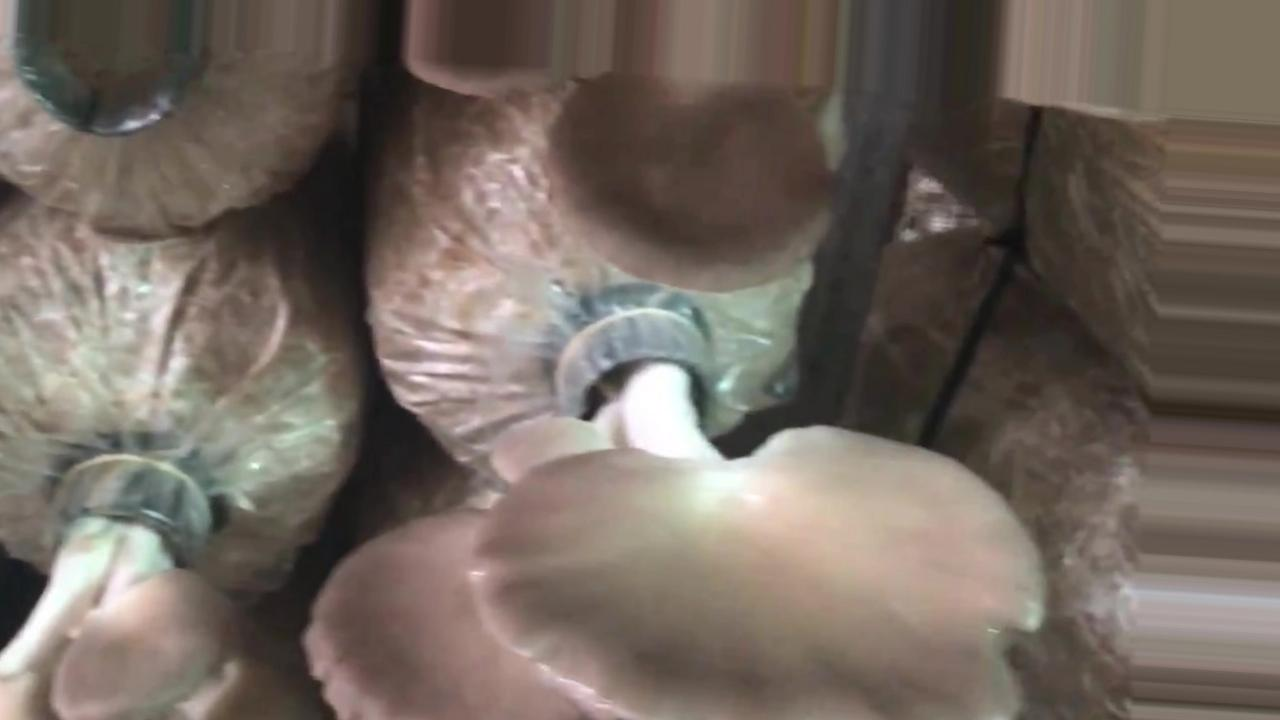nam: (468, 285, 1048, 720), (302, 506, 621, 720), (542, 78, 835, 300)
